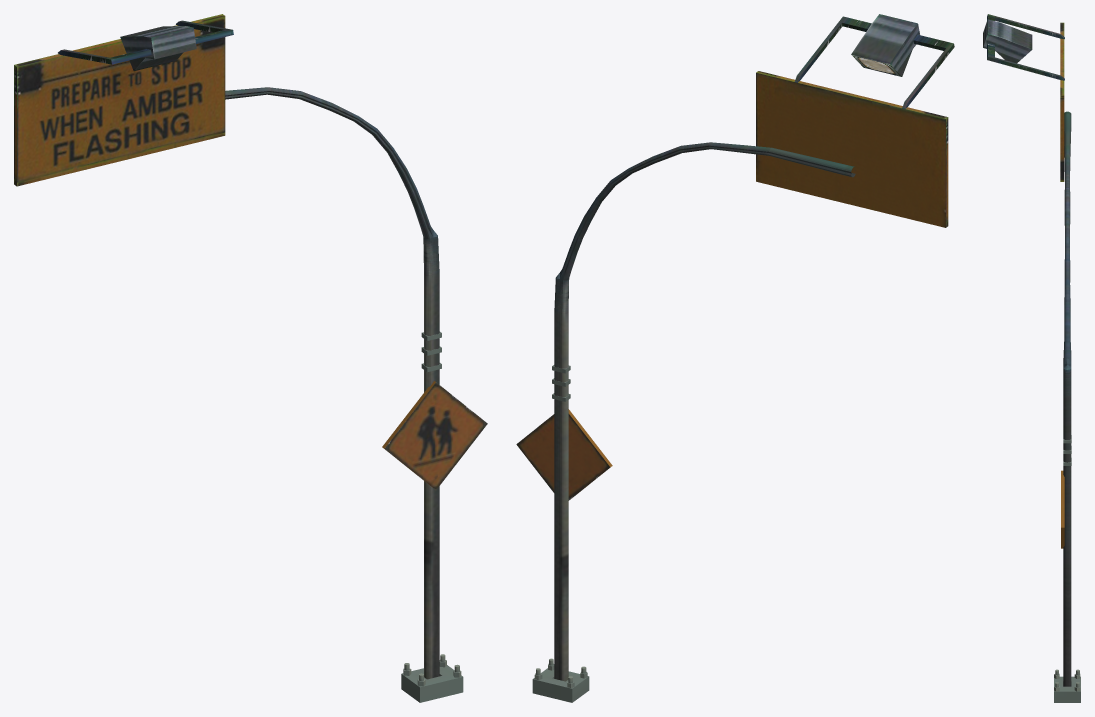
File: bigsign.01.luminated.lod1.obj
3 views of the same model, side by side, from view 1: azimuth 30°, elevation 25°; view 2: azimuth 150°, elevation 25°; view 3: azimuth 270°, elevation 25° (orthographic). The views are drawn at different scales.
Visible parts, largest first — view 1: lamppanneau02; view 2: lamppanneau02; view 3: lamppanneau02.
Boxes of the visible parts, x1,y1,x2,y2 form: lamppanneau02: [14, 14, 487, 702]; lamppanneau02: [516, 14, 954, 702]; lamppanneau02: [983, 14, 1080, 702].
Size of the model in its own units: 2792 by 4388 by 698.
Materials: 1 (1 with a texture image).
